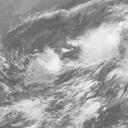cyclone: (76, 23, 119, 63)
